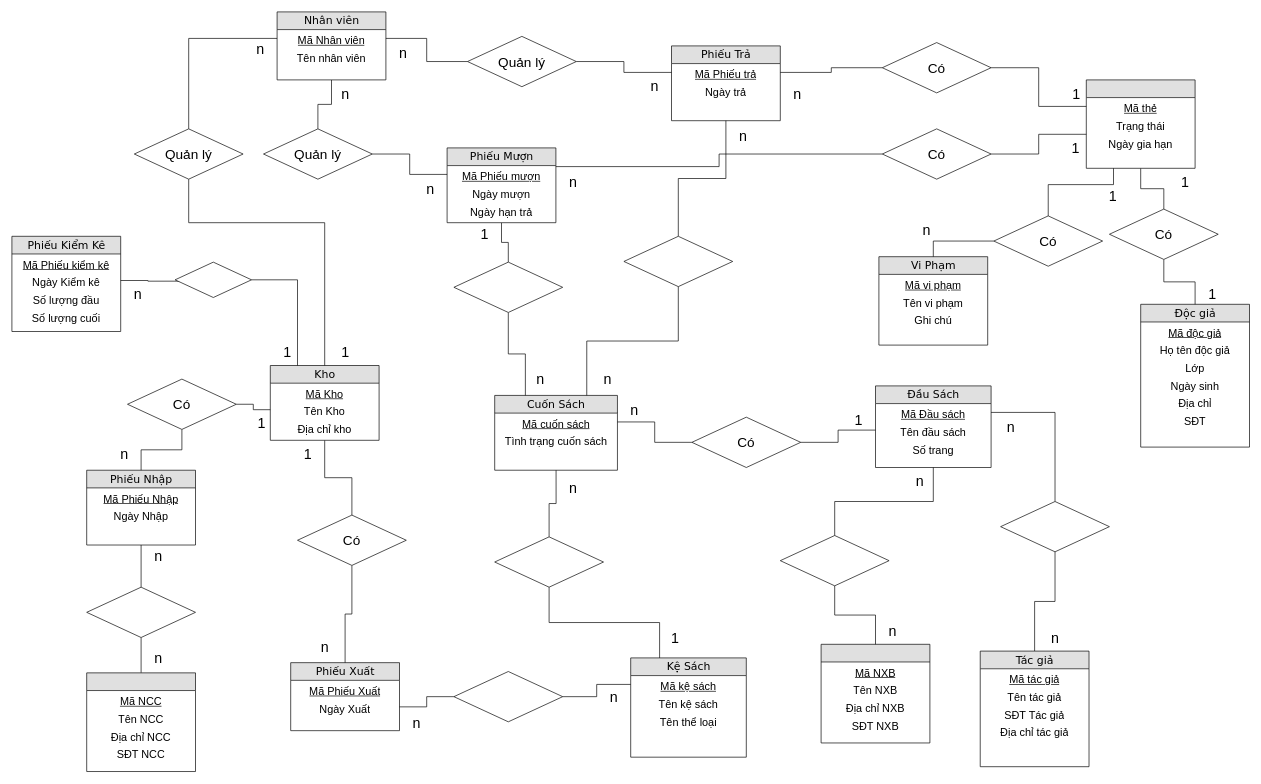
Image size: 1261x784. Some labels were removed from this diagram. Here are the shapes that lost their labels. From the top down, the box of each, then its label:
(1086, 79, 1195, 168): Thẻ thư viện
(174, 261, 252, 298): Kiểm tra
(623, 236, 733, 287): Trả
(453, 261, 563, 312): Mượn
(1000, 501, 1109, 552): Viết
(494, 536, 604, 587): Thuộc
(780, 535, 889, 586): Xuất bản
(86, 586, 196, 638): Cung cấp
(453, 671, 563, 722): Lên kệ
(820, 644, 930, 743): Nhà xuất bản
(86, 672, 196, 772): Nhà Cung Cấp
